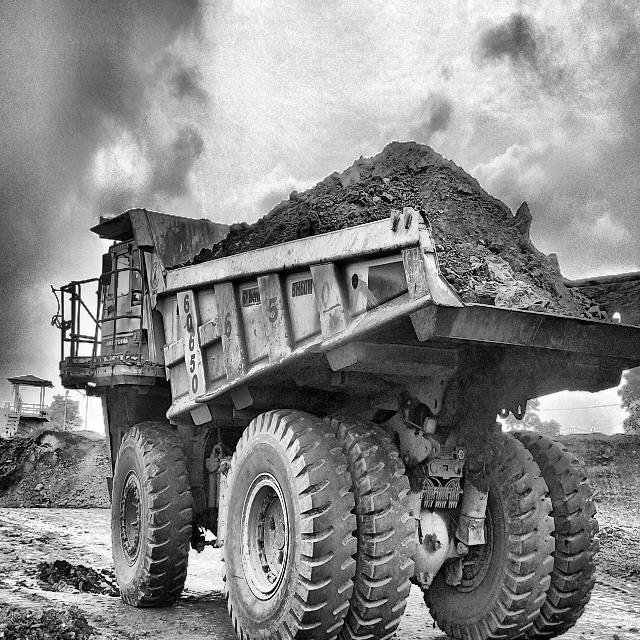dump_truck: (60, 145, 640, 640)
